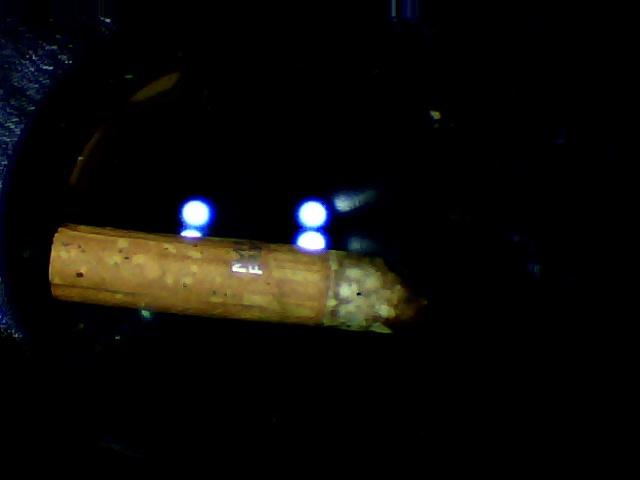megot: (47, 208, 430, 347)
